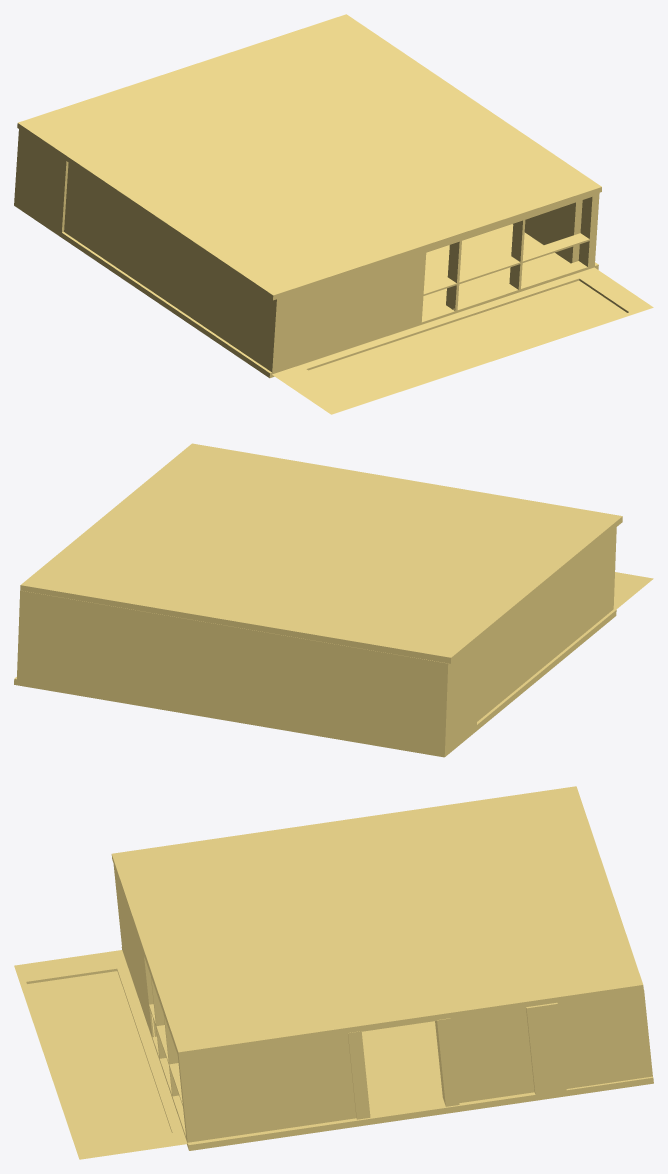
File: Casa.fbx
3 renders of one model, top to bottom at view 1: azimuth 30°, elevation 25°; view 2: azimuth 150°, elevation 25°; view 3: azimuth 270°, elevation 25°, orthographic. The views are drawn at different scales.
Visible parts, largest first — view 1: Plane.003; view 2: Plane.003; view 3: Plane.003.
Boxes of the visible parts, x1,y1,x2,y2 form: Plane.003: [14, 14, 653, 414]; Plane.003: [14, 443, 653, 757]; Plane.003: [14, 786, 653, 1159].
Size of the model in its own units: 1126 by 330 by 1320.
